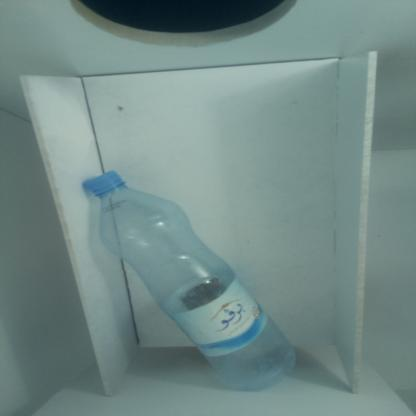Glass Bottle: (80, 161, 314, 401)
